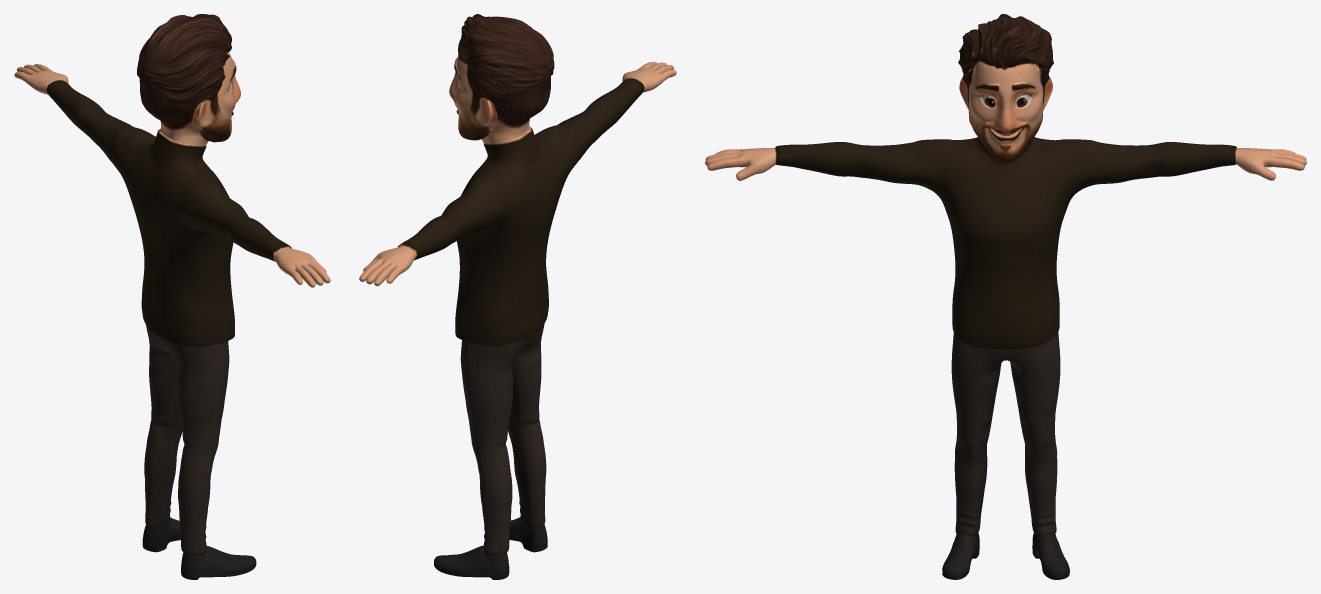
File: t-pose+human+3d+model.fbx
3 renders of one model, left to right at view 1: azimuth 30°, elevation 25°; view 2: azimuth 150°, elevation 25°; view 3: azimuth 270°, elevation 25°, orthographic.
Parts seen in each view (by area): view 1: tripo_node_4b3cacb2; view 2: tripo_node_4b3cacb2; view 3: tripo_node_4b3cacb2.
Part boxes in pixels (x1,y1,x2,y2): tripo_node_4b3cacb2: (14,14,330,579); tripo_node_4b3cacb2: (359,14,676,579); tripo_node_4b3cacb2: (705,14,1306,579).
Size of the model in its own units: 0.1917 by 0.9997 by 1.
Materials: 1 (1 with a texture image).
